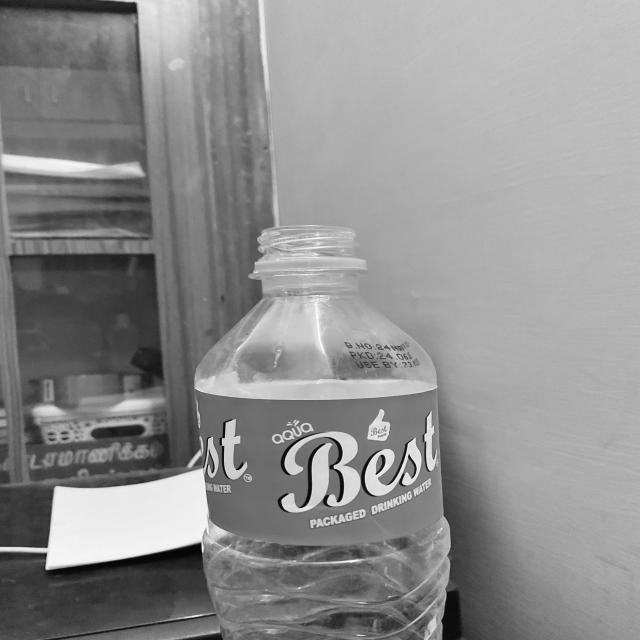open-cap: (253, 223, 367, 270)
